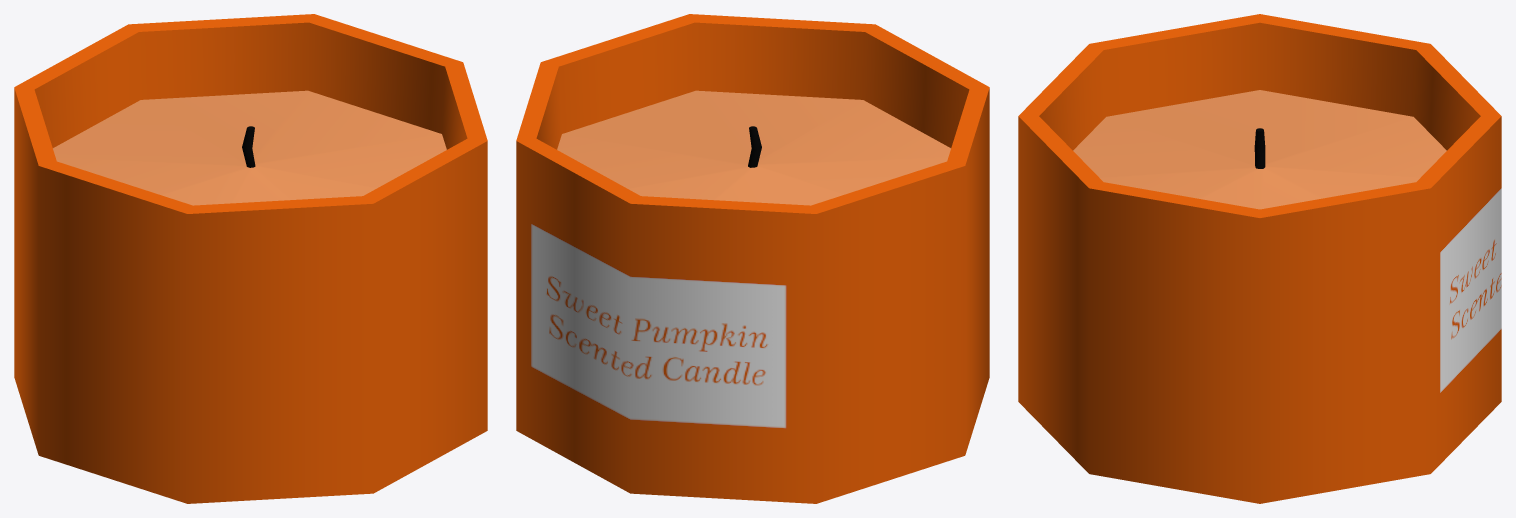
File: furniture_decor_210018.glb
3 views of the same model, side by side, from view 1: azimuth 30°, elevation 25°; view 2: azimuth 150°, elevation 25°; view 3: azimuth 270°, elevation 25° (orthographic).
Parts seen in each view (by area): view 1: furniture_decor_210018; view 2: furniture_decor_210018; view 3: furniture_decor_210018.
Boxes of the visible parts, x1,y1,x2,y2 form: furniture_decor_210018: (14, 14, 487, 503); furniture_decor_210018: (516, 14, 989, 503); furniture_decor_210018: (1018, 14, 1501, 503).
Size of the model in its own units: 0.1295 by 0.0845 by 0.1295.
1 material, 1 textured.
